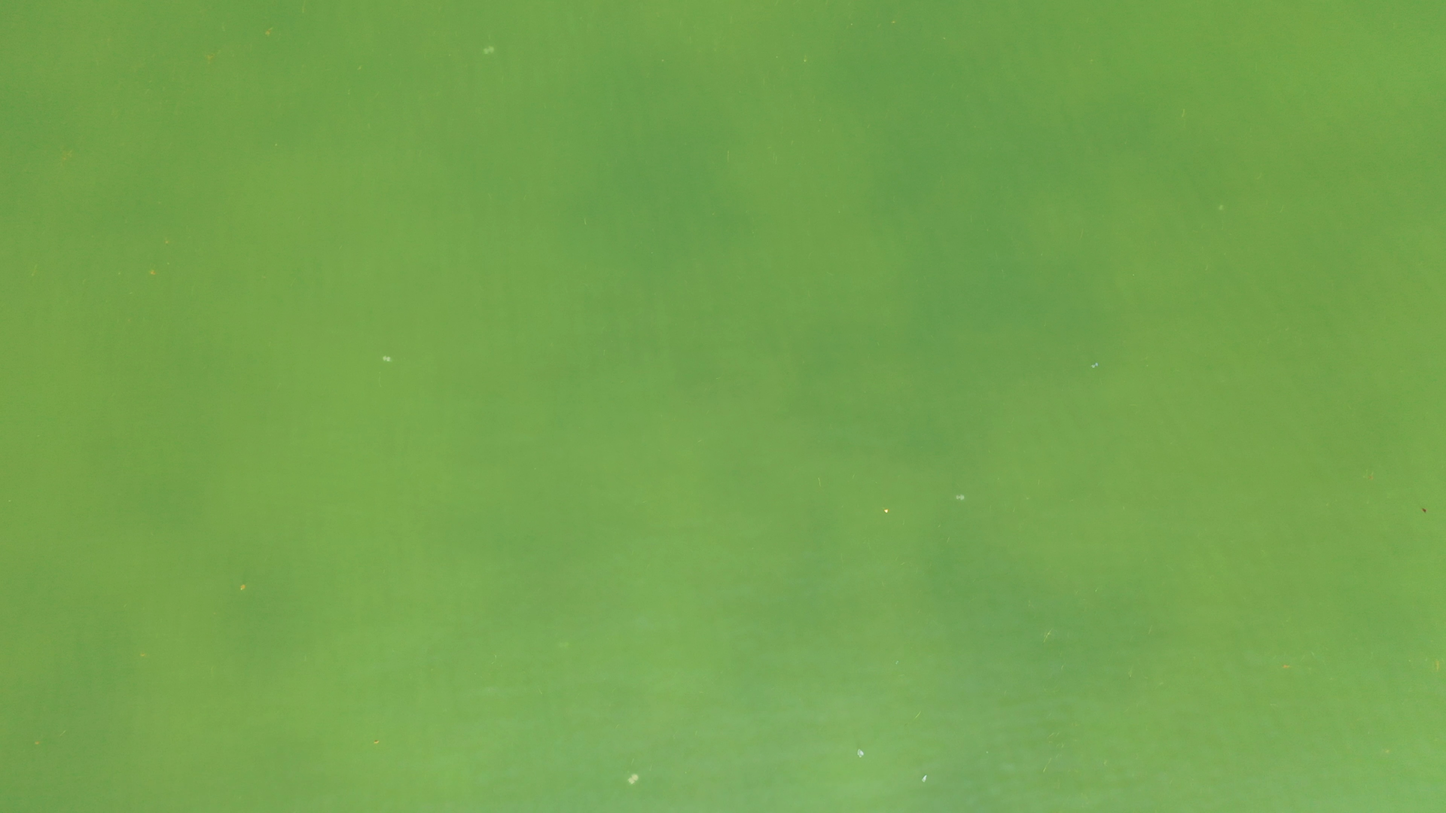meduse: (485, 46, 495, 55), (382, 355, 391, 363), (628, 774, 636, 783), (558, 643, 566, 651), (956, 494, 965, 501), (1091, 362, 1098, 368)
